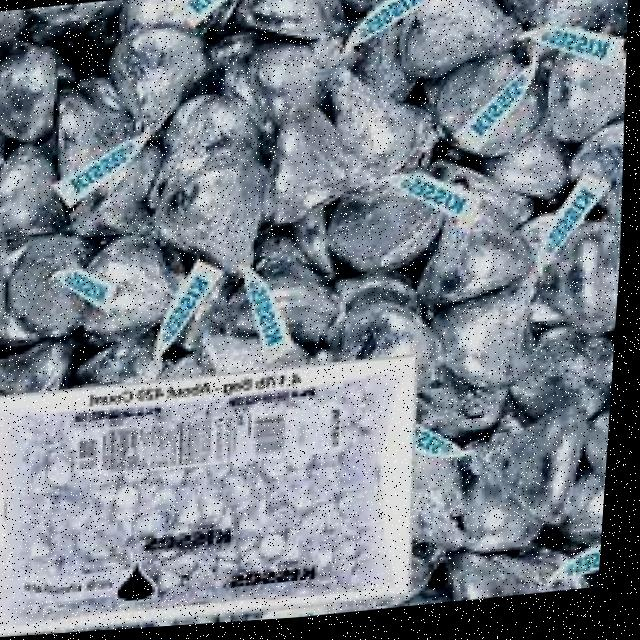kisses: (86, 0, 235, 161), (234, 118, 405, 248), (427, 264, 565, 405), (144, 161, 282, 294), (464, 406, 600, 540), (432, 30, 554, 177), (73, 219, 193, 362), (134, 513, 237, 569)
